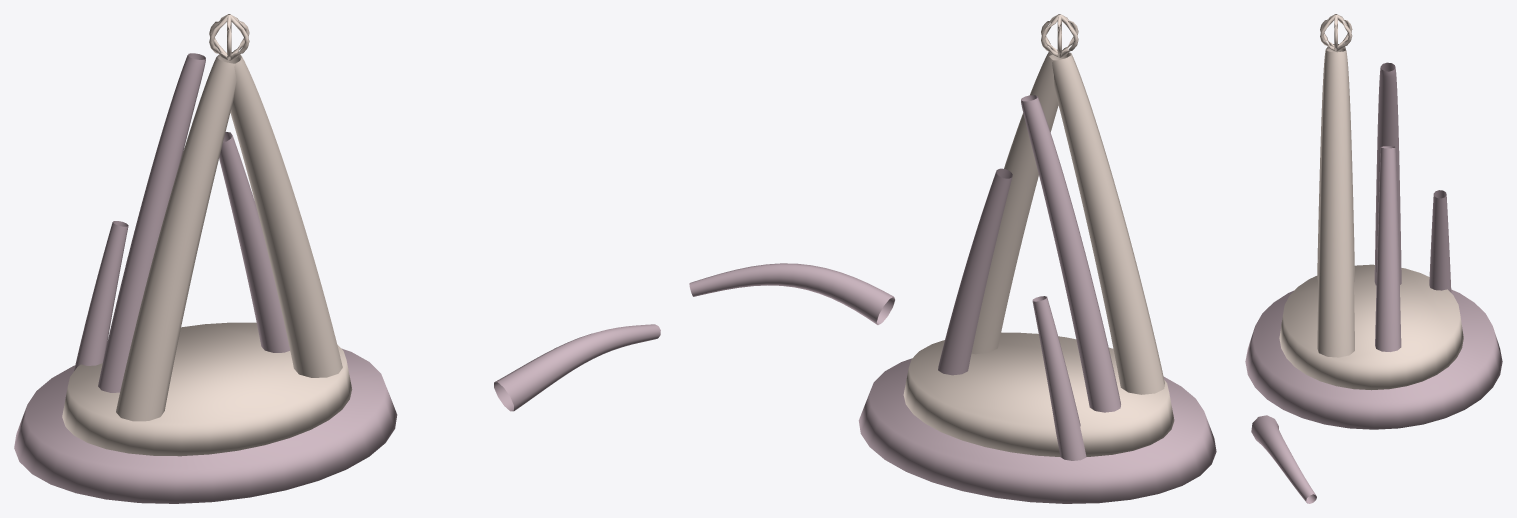
The model's file is ruine_porte.glb.
3 views of the same model, side by side, from view 1: azimuth 30°, elevation 25°; view 2: azimuth 150°, elevation 25°; view 3: azimuth 270°, elevation 25° (orthographic). The views are drawn at different scales.
Visible parts, largest first — view 1: socle, marche, arche, arche.001, arche.002, arche.003, cote_tombee, arche.004; view 2: socle, marche, arche, arche.002, arche.001, arche.003, cote_tombee, arche.004; view 3: socle, marche, arche.001, arche.003, arche.002, cote_tombee, arche.004, arche.
Part boxes in pixels (left/top/right/bottom): socle: left=14, top=348, right=397, bottom=503; marche: left=62, top=322, right=352, bottom=456; arche: left=116, top=54, right=240, bottom=421; arche.001: left=218, top=52, right=342, bottom=377; arche.002: left=98, top=53, right=205, bottom=392; arche.003: left=219, top=132, right=289, bottom=352; cote_tombee: left=494, top=324, right=660, bottom=411; arche.004: left=74, top=221, right=128, bottom=370; socle: left=858, top=358, right=1216, bottom=503; marche: left=903, top=332, right=1174, bottom=456; arche: left=1049, top=52, right=1164, bottom=394; arche.002: left=1021, top=95, right=1120, bottom=412; arche.001: left=971, top=49, right=1070, bottom=354; arche.003: left=938, top=168, right=1012, bottom=375; cote_tombee: left=689, top=263, right=894, bottom=324; arche.004: left=1032, top=296, right=1086, bottom=460; socle: left=1245, top=289, right=1502, bottom=429; marche: left=1279, top=264, right=1463, bottom=390; arche.001: left=1317, top=48, right=1354, bottom=357; arche.003: left=1375, top=146, right=1401, bottom=351; arche.002: left=1374, top=62, right=1401, bottom=285; cote_tombee: left=1251, top=415, right=1316, bottom=503; arche.004: left=1429, top=190, right=1451, bottom=292; arche: left=1317, top=44, right=1354, bottom=281.
Bounding box in the file's own units: 11.47 × 8.11 × 5.44.
